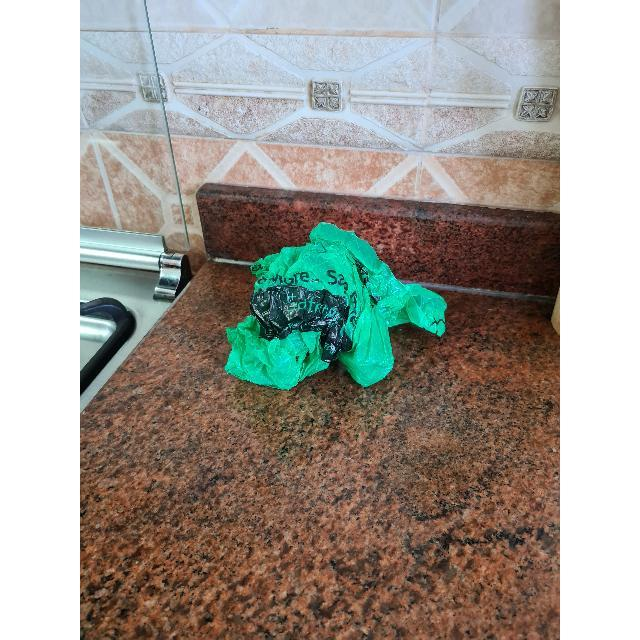Bolsa-de-nilon: (225, 222, 445, 388)
